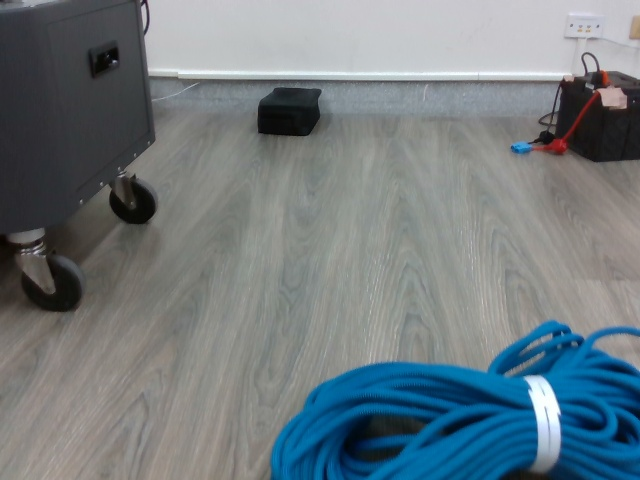rope: (268, 316, 640, 480)
